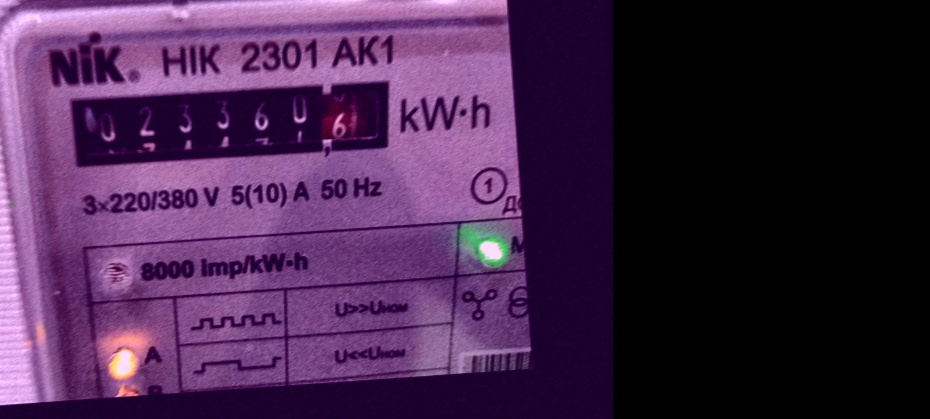0: (286, 89, 311, 125), (94, 106, 118, 143)
2: (134, 101, 157, 138)
3: (173, 99, 195, 135), (211, 95, 232, 130)
6: (249, 96, 271, 131), (327, 105, 348, 140)
screen: (55, 63, 412, 186)
